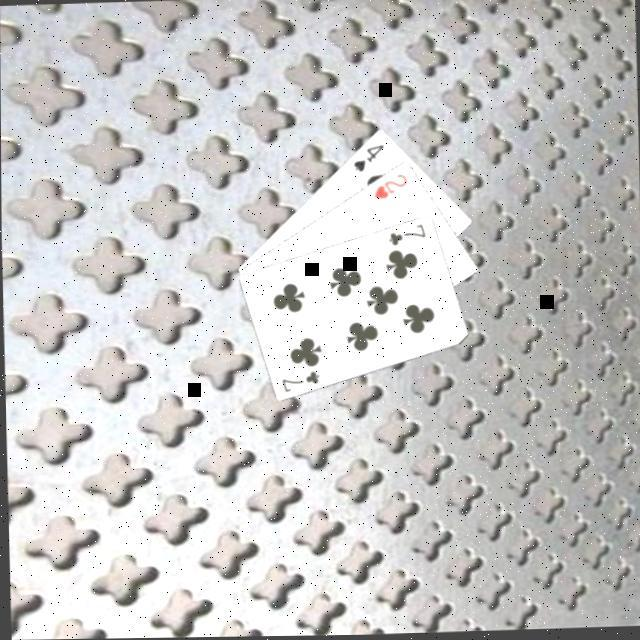2H: (370, 170, 411, 201)
4S: (350, 141, 387, 174)
7C: (278, 366, 322, 395), (385, 220, 428, 248)
